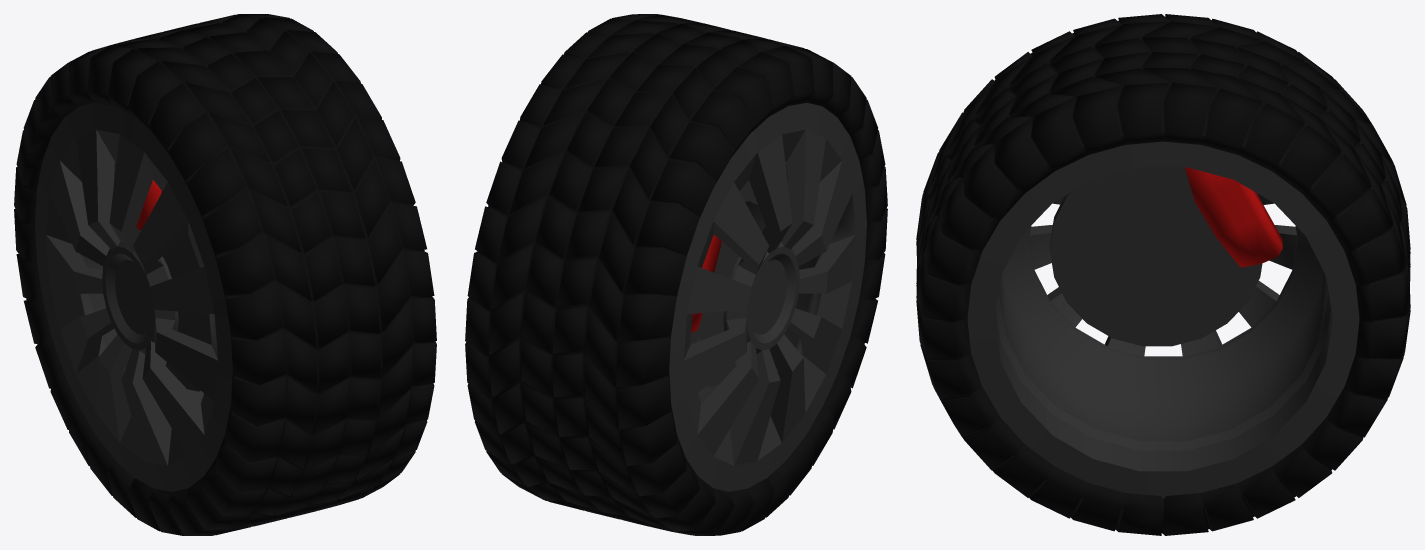
File: wheel_rr.obj
3 views of the same model, side by side, from view 1: azimuth 30°, elevation 25°; view 2: azimuth 150°, elevation 25°; view 3: azimuth 270°, elevation 25° (orthographic).
Visible parts, largest first — view 1: wheel_rr; view 2: wheel_rr; view 3: wheel_rr.
Part boxes in pixels (x1=…): wheel_rr: x1=14, y1=14, x2=436, y2=535; wheel_rr: x1=465, y1=14, x2=887, y2=535; wheel_rr: x1=916, y1=14, x2=1410, y2=535.
Size of the model in its own units: 0.3196 by 0.6659 by 0.6659.
